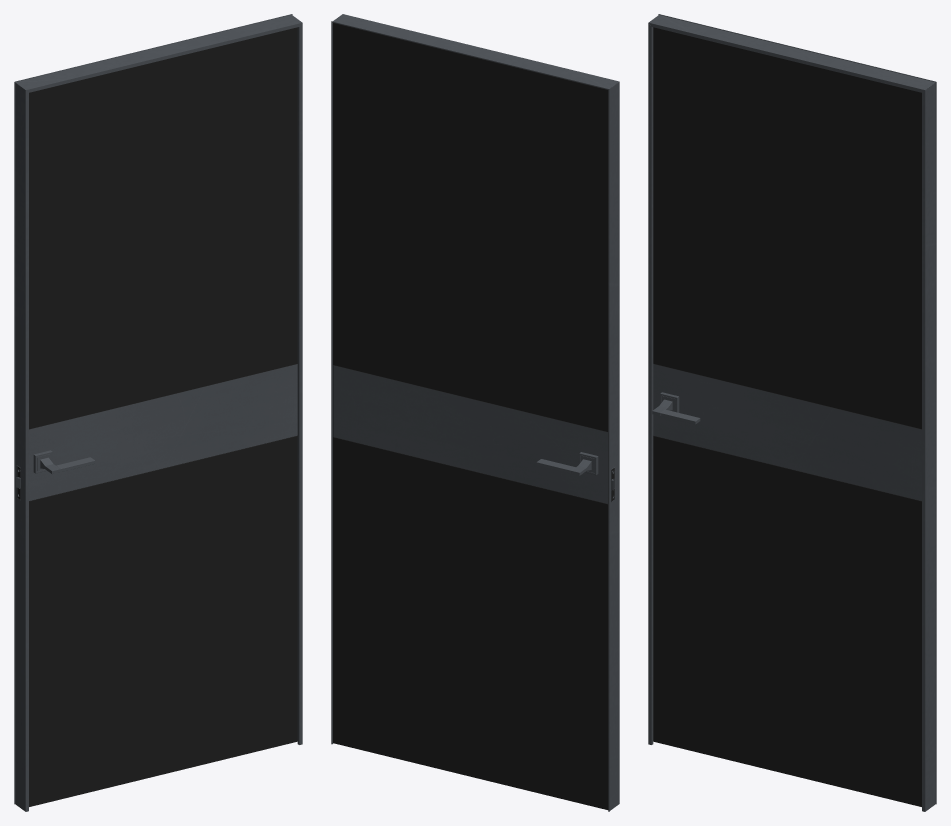
File: door.glb
3 renders of one model, left to right at view 1: azimuth 30°, elevation 25°; view 2: azimuth 150°, elevation 25°; view 3: azimuth 330°, elevation 25°, orthographic.
Parts seen in each view (by area): view 1: Buffer Layer 1, модель двери, Buffer Layer; view 2: Buffer Layer 1, Buffer Layer, модель двери; view 3: Buffer Layer 1, модель двери, Buffer Layer.
Part boxes in pixels (x1=…): Buffer Layer 1: x1=17, y1=27, x2=297, y2=806; модель двери: x1=14, y1=14, x2=302, y2=811; Buffer Layer: x1=29, y1=364, x2=297, y2=500; Buffer Layer 1: x1=333, y1=23, x2=614, y2=809; Buffer Layer: x1=333, y1=365, x2=607, y2=503; модель двери: x1=331, y1=14, x2=619, y2=811; Buffer Layer 1: x1=653, y1=27, x2=921, y2=806; модель двери: x1=648, y1=14, x2=936, y2=811; Buffer Layer: x1=653, y1=364, x2=921, y2=500.
Size of the model in its own units: 0.8122 by 2.01 by 0.1815.
Materials: 4 (1 with a texture image).
